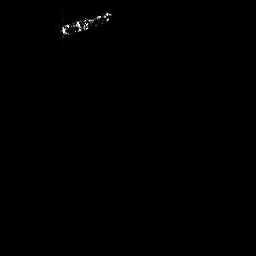ship: (56, 9, 115, 39)
